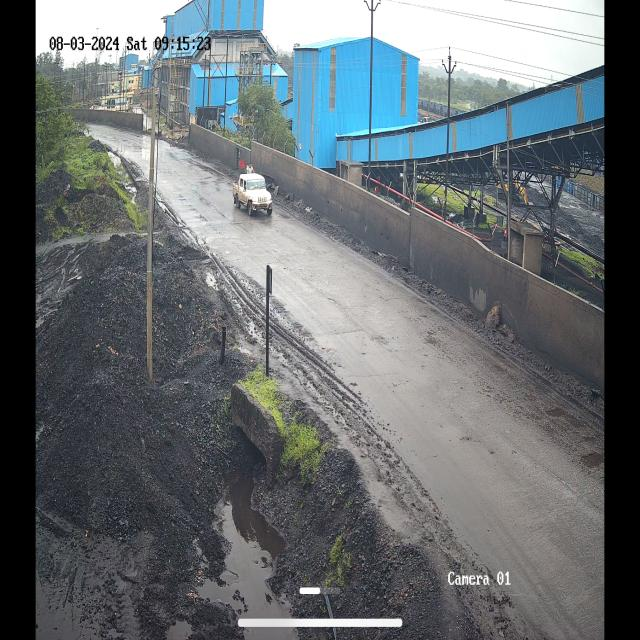light_vehicle: (232, 152, 272, 227)
